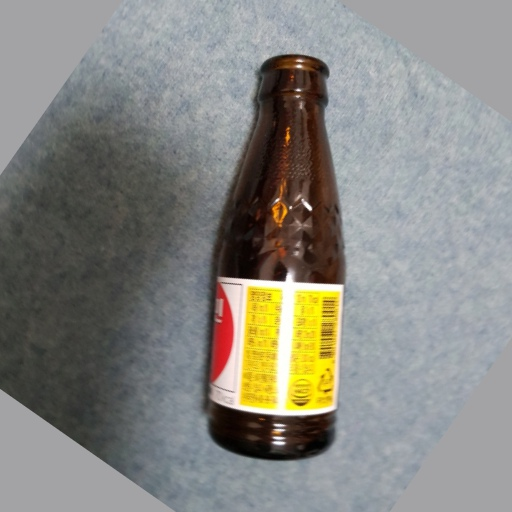Glass_3: (203, 53, 351, 462)
